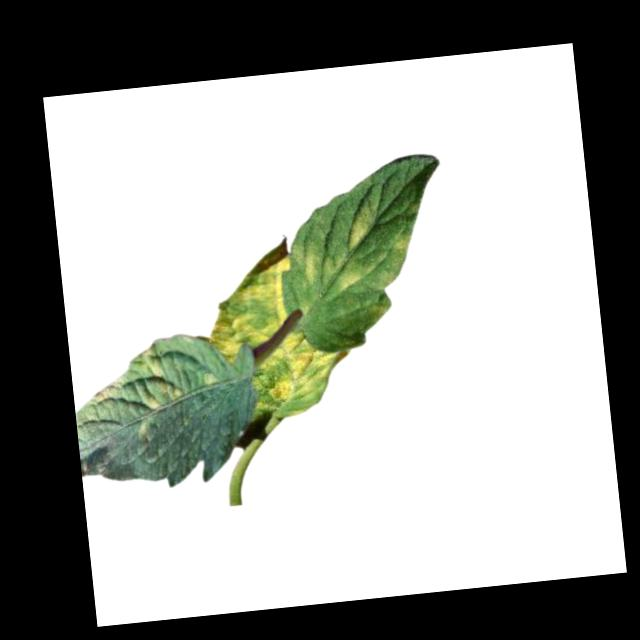Leaf_Mold: (200, 237, 302, 367), (86, 342, 188, 441), (242, 328, 351, 420), (290, 238, 373, 297), (342, 204, 376, 250), (381, 228, 415, 257)
